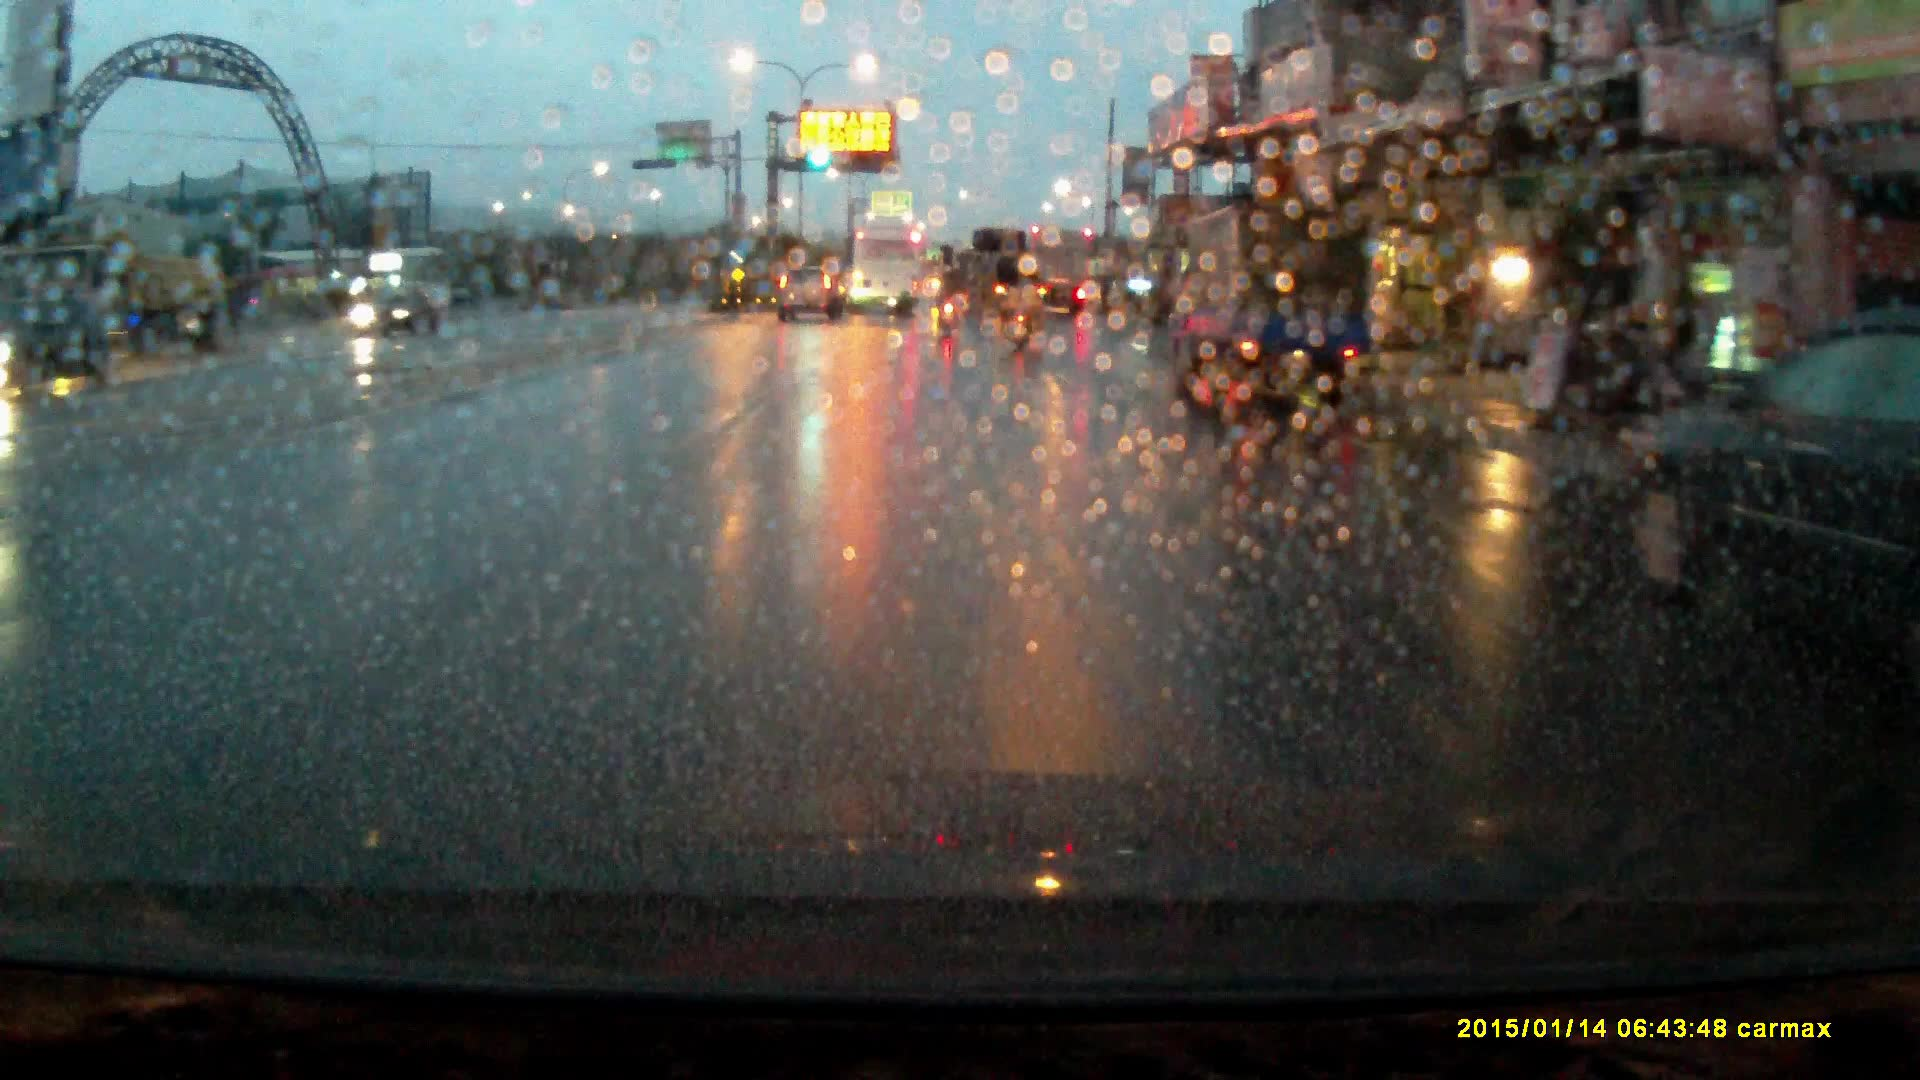rider: (1002, 276, 1042, 361), (932, 271, 964, 336)
vehicle: (1163, 212, 1381, 418), (21, 238, 242, 355), (969, 230, 1043, 323), (851, 232, 924, 320), (1033, 232, 1098, 319), (356, 282, 439, 344), (778, 267, 844, 327)
